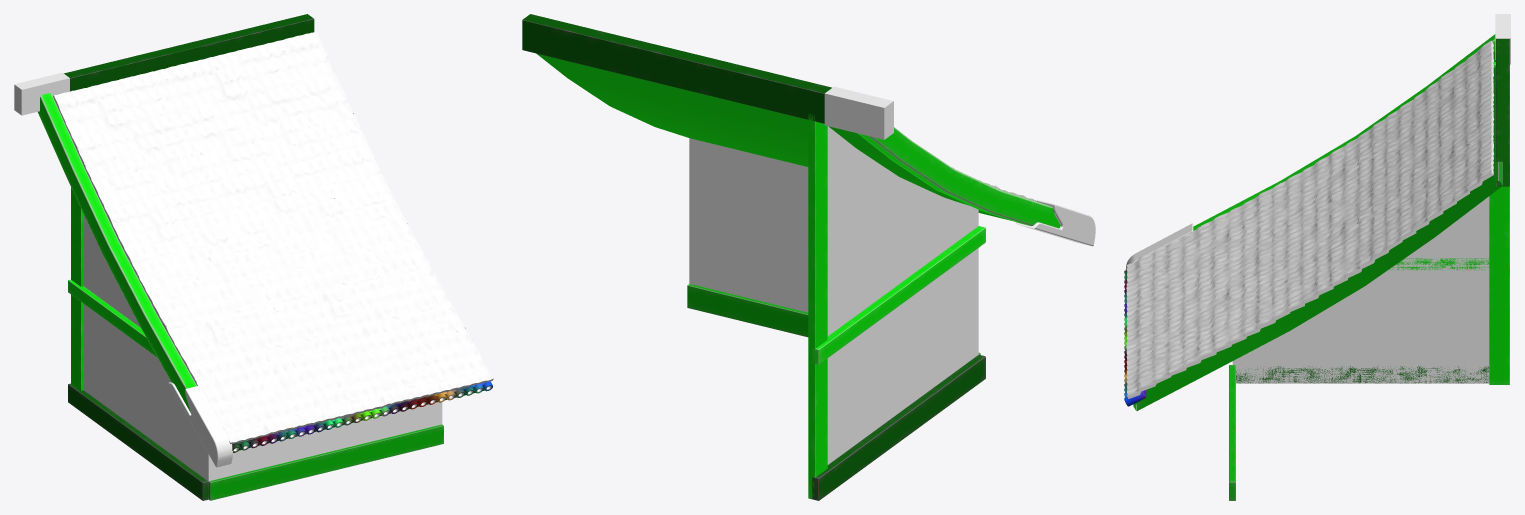
File: roof_400_01_left.fbx
3 views of the same model, side by side, from view 1: azimuth 30°, elevation 25°; view 2: azimuth 150°, elevation 25°; view 3: azimuth 270°, elevation 25° (orthographic). The views are drawn at different scales.
Visible parts, largest first — view 1: roof_400_01_left; view 2: roof_400_01_left; view 3: roof_400_01_left.
Part boxes in pixels (x1,y1,x2,y2): roof_400_01_left: (14,14,493,500); roof_400_01_left: (522,14,1095,500); roof_400_01_left: (1124,14,1510,500).
Bounding box in the file's own units: 5.01 × 5.41 × 5.58.
